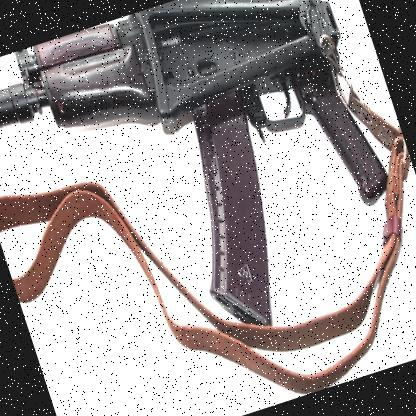rifle: (0, 0, 408, 373)
